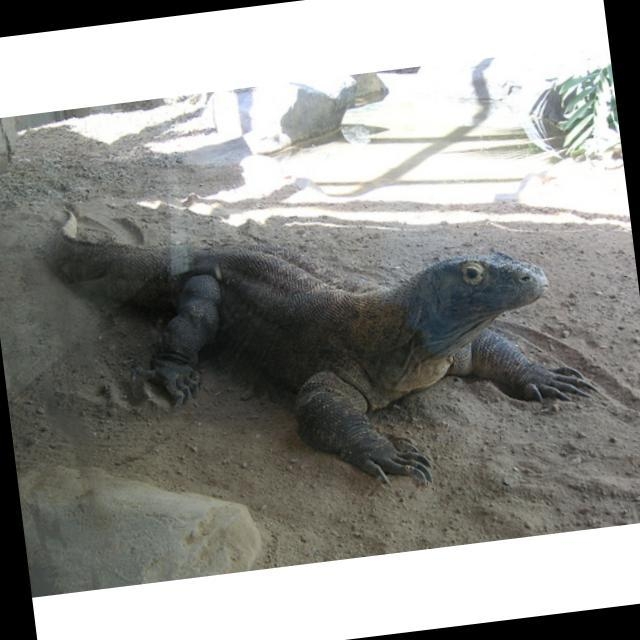KomodoDragon: (45, 138, 612, 527)
